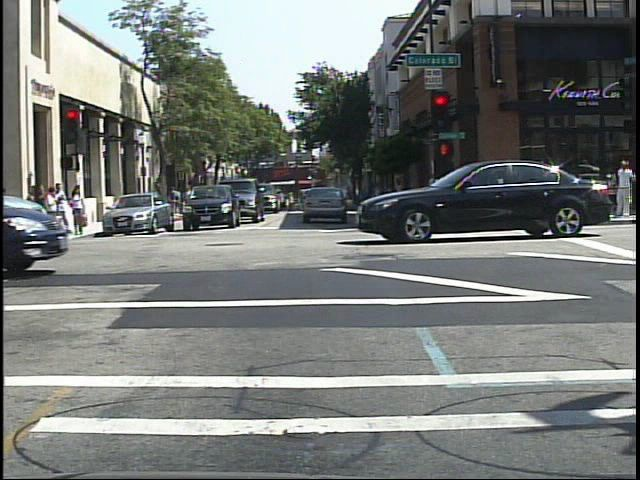person: (611, 157, 638, 222), (170, 185, 182, 216)
